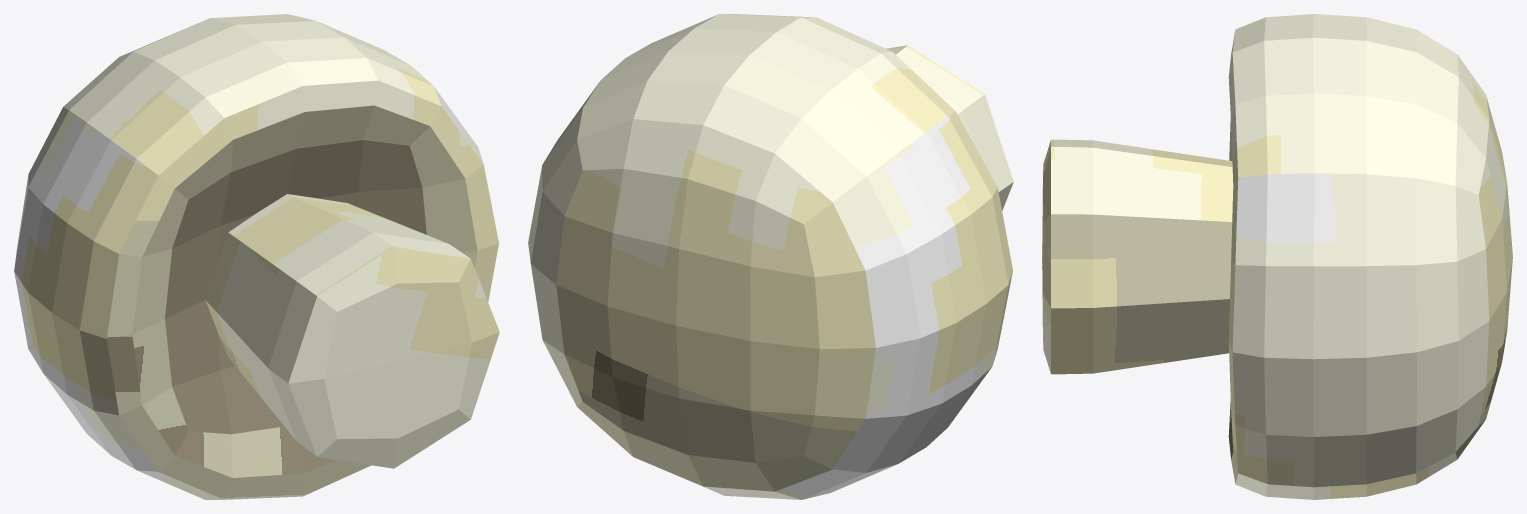
The model's file is White mushroom 1.fbx.
The picture shows the model from 3 angles, left to right: view 1: azimuth 30°, elevation 25°; view 2: azimuth 150°, elevation 25°; view 3: azimuth 270°, elevation 25°; orthographic projection.
Visible parts, largest first — view 1: White mushroom 1; view 2: White mushroom 1; view 3: White mushroom 1.
Boxes of the visible parts, x1,y1,x2,y2 form: White mushroom 1: (14,14,499,499); White mushroom 1: (528,14,1013,499); White mushroom 1: (1042,14,1512,499).
Size of the model in its own units: 757 by 757 by 738.
